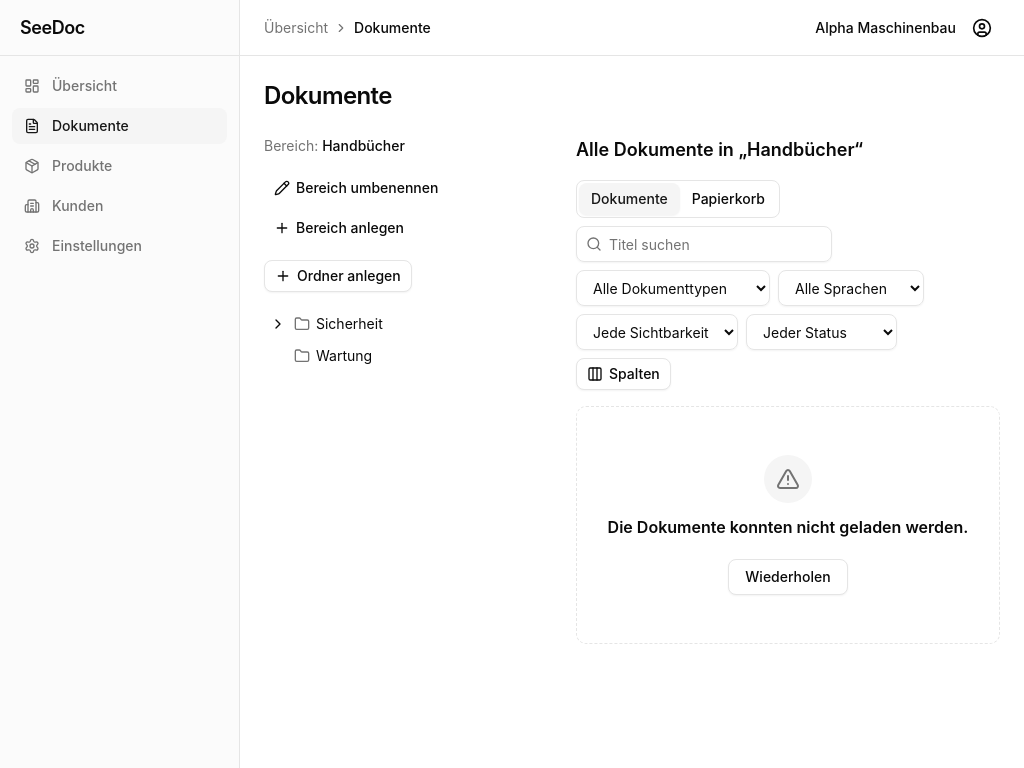
Test: DocumentsPage – changing folders › shows a taken name under the field and keeps the dialog open
This screenshot has width=1024, height=768.
Step 1. Click the button "Ordner anlegen" → {"x": 338, "y": 276}, box [264, 260, 412, 292]
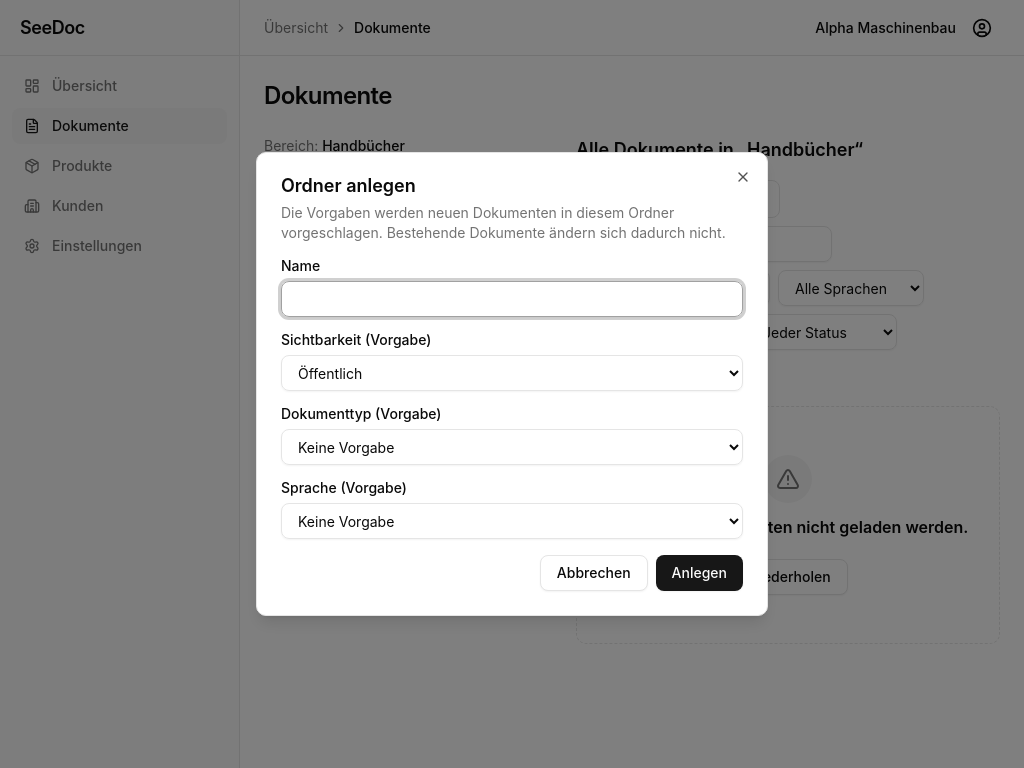
Step 2. Type "Wartung" into the field labelled "Name" → {"x": 512, "y": 299}, box [281, 281, 743, 317]
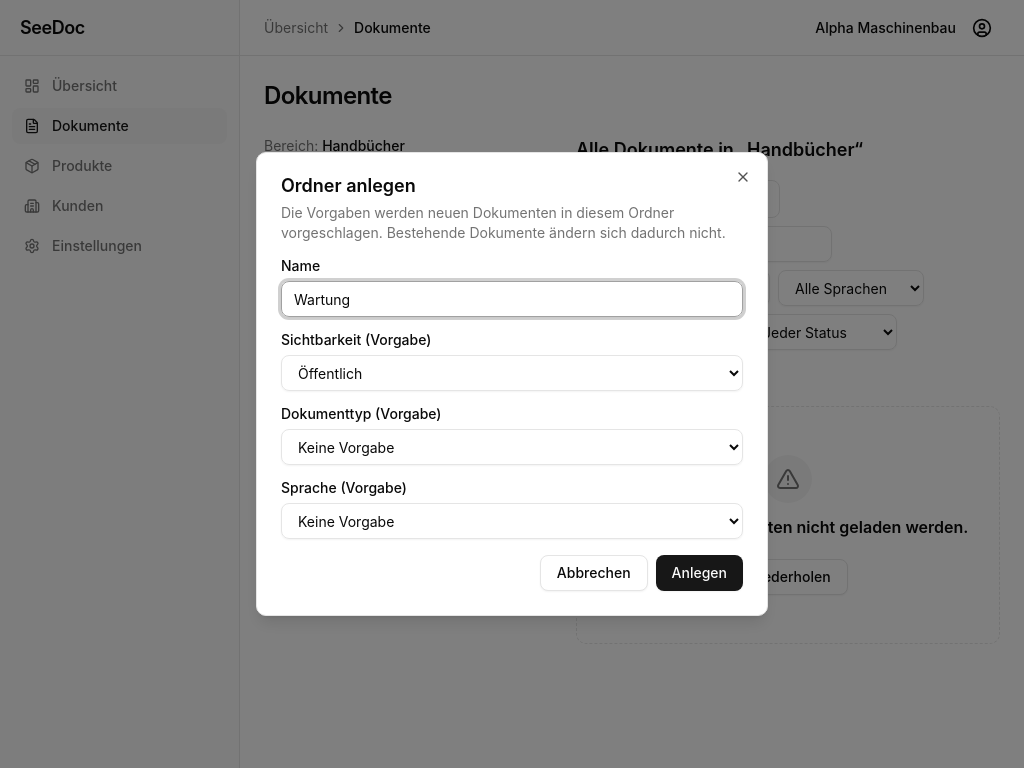
Step 3. Click the button "Anlegen" → {"x": 699, "y": 573}, box [656, 555, 743, 591]
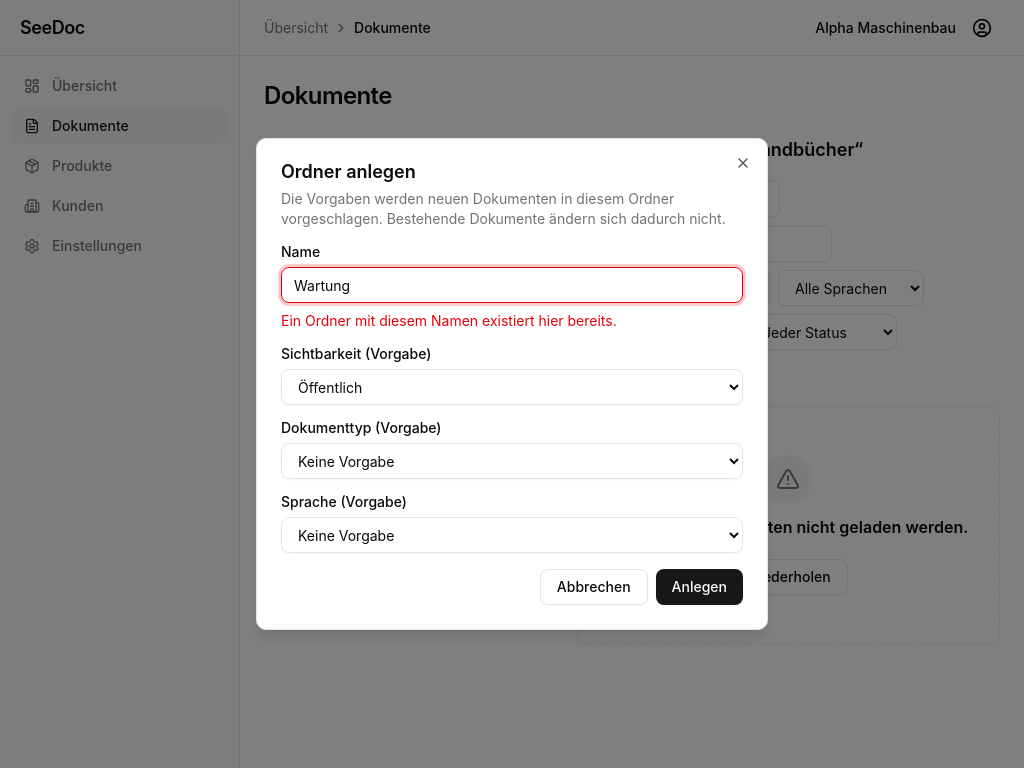
Check: the text "Ein Ordner mit diesem Namen existiert hier bereits." is shown, box [281, 312, 617, 329]
